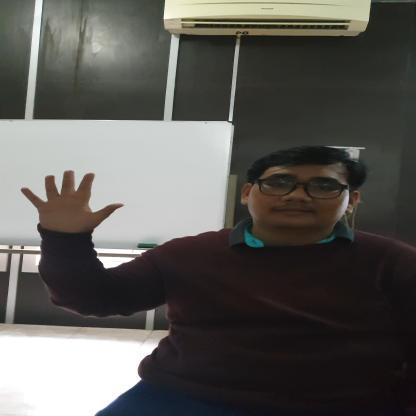Halo: (17, 168, 127, 240)
